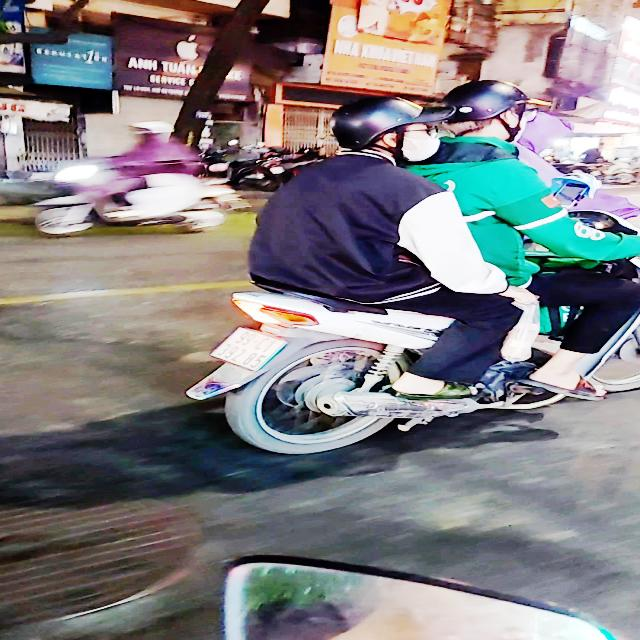license_plate: (204, 325, 295, 375)
